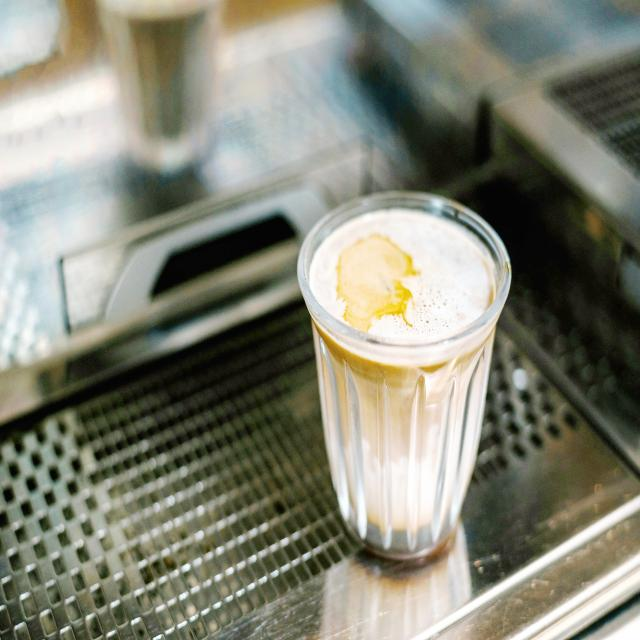drink: (298, 197, 513, 557)
